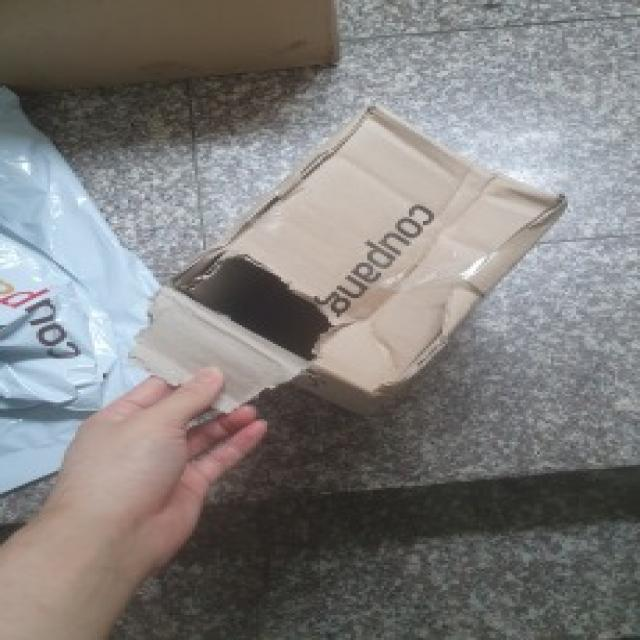damaged: (177, 254, 337, 361)
